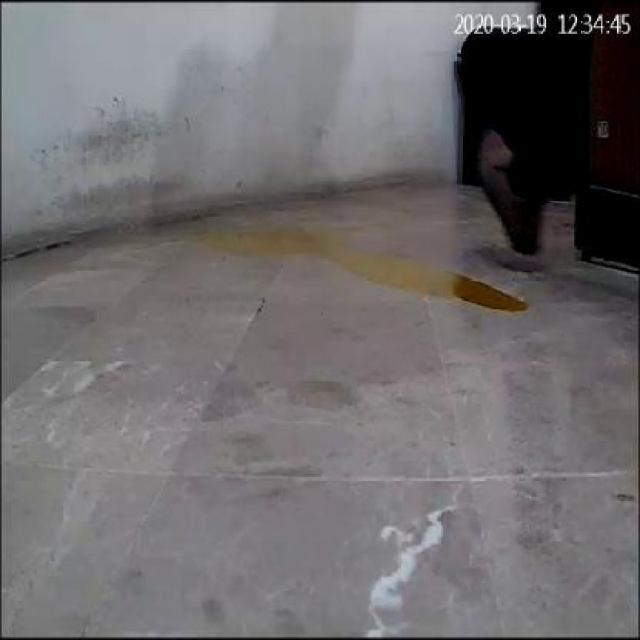spill: (203, 215, 526, 316)
